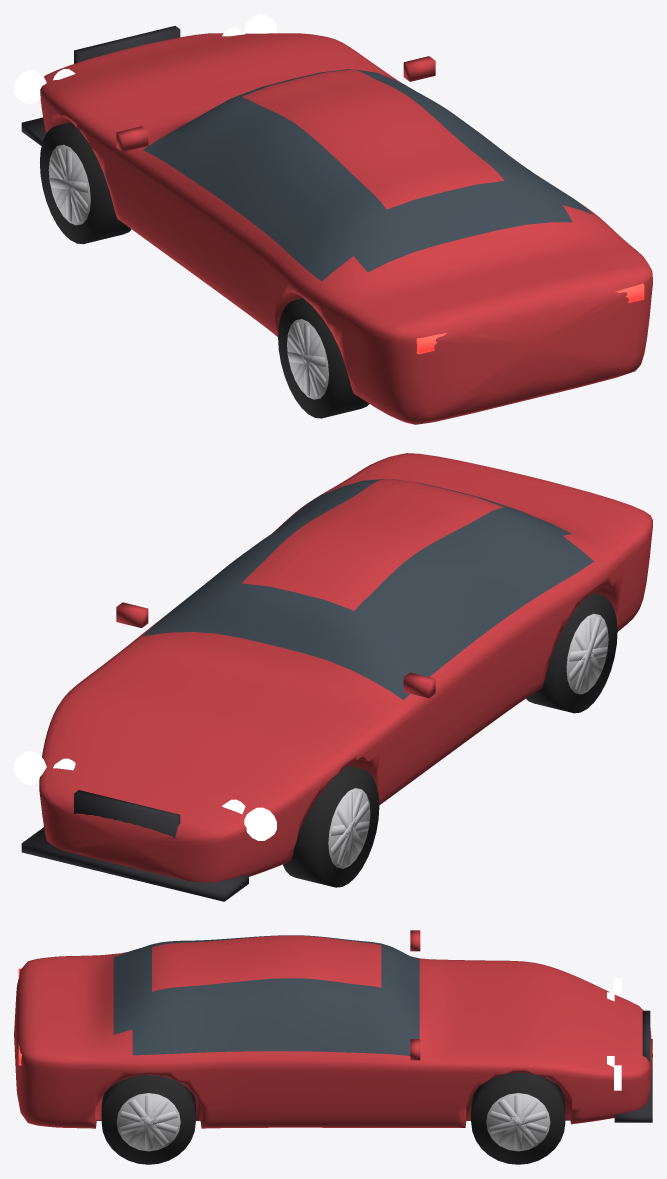
The model's file is regal_gt.glb.
The picture shows the model from 3 angles, top to bottom: view 1: azimuth 30°, elevation 25°; view 2: azimuth 150°, elevation 25°; view 3: azimuth 270°, elevation 25°; orthographic projection. The views are drawn at different scales.
Parts seen in each view (by area): view 1: Body, Wheel_FL, Wheel_RL; view 2: Body, Wheel_FL, Wheel_RL; view 3: Body, Wheel_FR, Wheel_RR.
Part boxes in pixels (x1=…): Body: x1=14, y1=14, x2=652, y2=424; Wheel_FL: x1=40, y1=122, x2=131, y2=244; Wheel_RL: x1=278, y1=298, x2=369, y2=418; Body: x1=14, y1=453, x2=652, y2=901; Wheel_FL: x1=283, y1=765, x2=379, y2=887; Wheel_RL: x1=526, y1=593, x2=617, y2=713; Body: x1=14, y1=930, x2=652, y2=1128; Wheel_FR: x1=471, y1=1072, x2=565, y2=1164; Wheel_RR: x1=101, y1=1075, x2=195, y2=1164.
Size of the model in its own units: 2.2 by 1.38 by 5.01.
